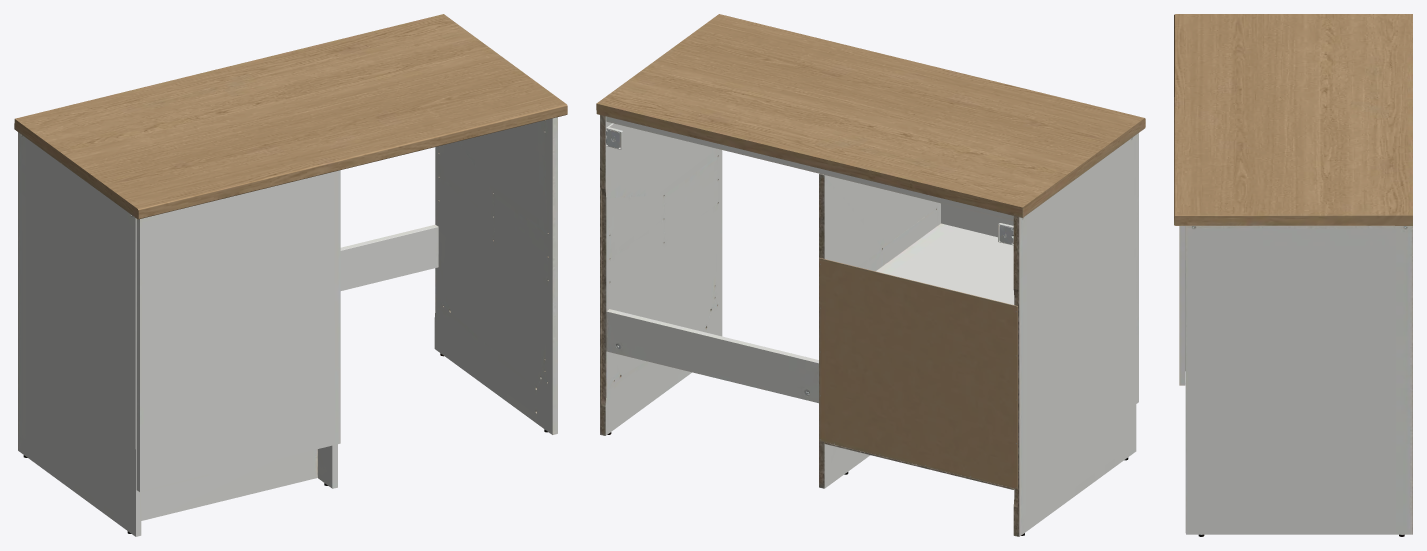
Rendered from knoxhult-armario-bajo-puerta-y-hueco-blanco.glb.
The picture shows the model from 3 angles, left to right: view 1: azimuth 30°, elevation 25°; view 2: azimuth 150°, elevation 25°; view 3: azimuth 270°, elevation 25°; orthographic projection. The views are drawn at different scales.
Visible parts, largest first — view 1: ASY_ART_60604078_S01_NV01; view 2: ASY_ART_60604078_S01_NV01; view 3: ASY_ART_60604078_S01_NV01.
Boxes of the visible parts, x1,y1,x2,y2 form: ASY_ART_60604078_S01_NV01: [14, 14, 567, 536]; ASY_ART_60604078_S01_NV01: [596, 14, 1145, 536]; ASY_ART_60604078_S01_NV01: [1174, 14, 1412, 536].
Bounding box in the file's own units: 1.22 × 0.9102 × 0.6104.
2 materials, 1 textured.
